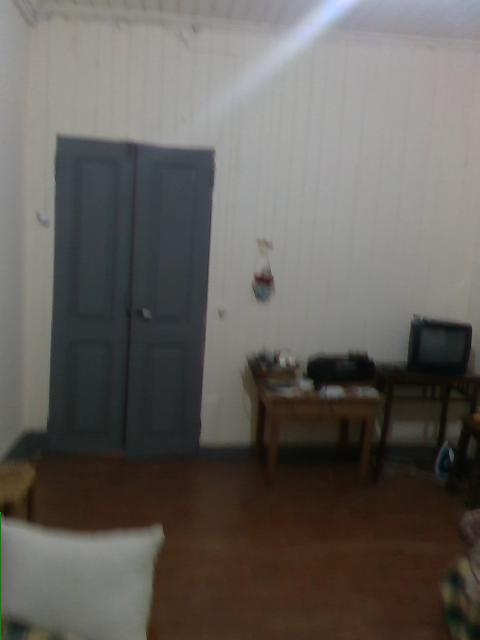door: (44, 137, 212, 454)
